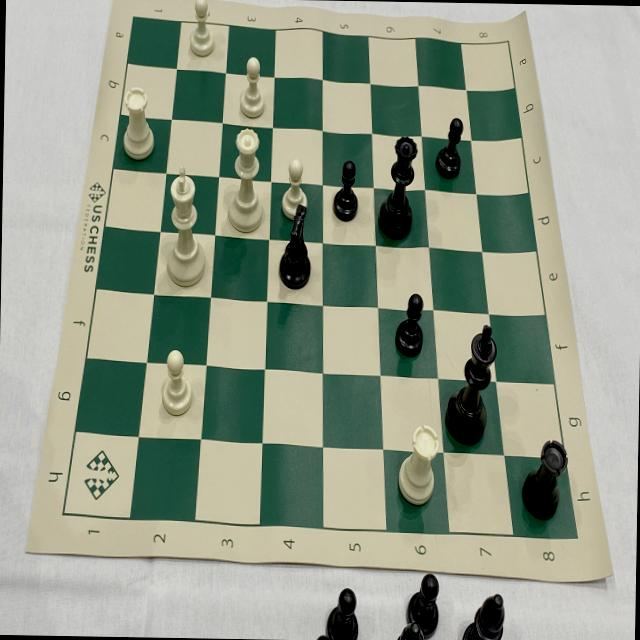black-king: (442, 316, 499, 452)
black-knight: (270, 203, 319, 295)
black-pawn: (394, 287, 427, 361), (328, 156, 361, 226), (434, 111, 465, 180)
black-queen: (374, 131, 419, 242)
black-rook: (518, 436, 566, 524)
white-king: (162, 158, 210, 291)
white-pawn: (154, 342, 197, 423), (274, 153, 311, 224), (234, 51, 268, 120), (183, 0, 215, 63)
white-queen: (223, 121, 268, 240)
white-rook: (394, 415, 443, 515), (116, 82, 158, 166)
